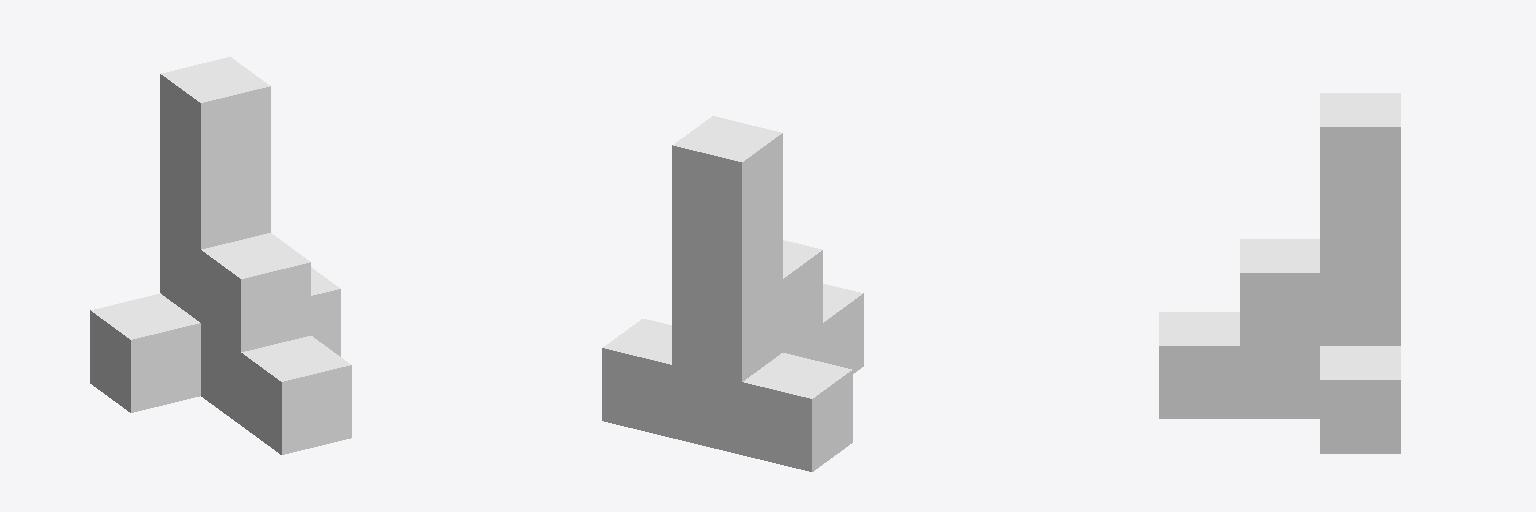
File: Extra-7-InterstellarRunner_LandingPod_R.obj
The picture shows the model from 3 angles: view 1: azimuth 30°, elevation 25°; view 2: azimuth 150°, elevation 25°; view 3: azimuth 270°, elevation 25°; orthographic projection.
Parts seen in each view (by area): view 1: InterstellarRunner_LandingPod_R; view 2: InterstellarRunner_LandingPod_R; view 3: InterstellarRunner_LandingPod_R.
Boxes of the visible parts, x1=… form: InterstellarRunner_LandingPod_R: x1=90, y1=57, x2=351, y2=454; InterstellarRunner_LandingPod_R: x1=602, y1=116, x2=863, y2=471; InterstellarRunner_LandingPod_R: x1=1159, y1=93, x2=1400, y2=453.
Size of the model in its own units: 0.3 by 0.4 by 0.3.